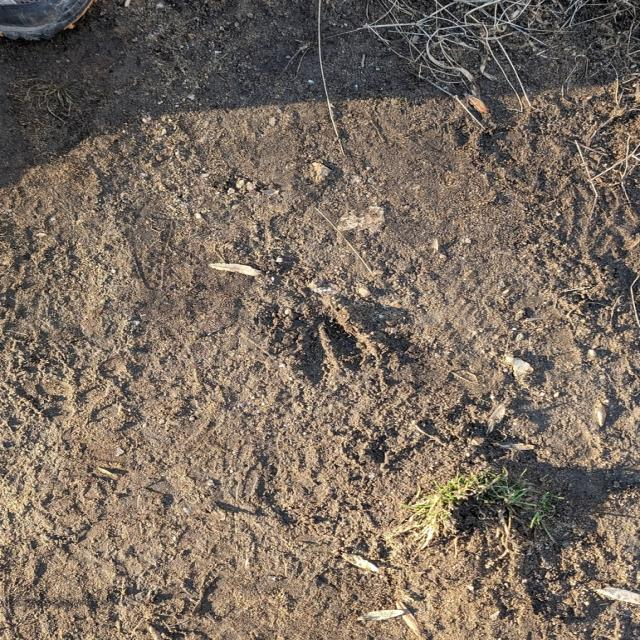deer: (297, 310, 365, 374)
